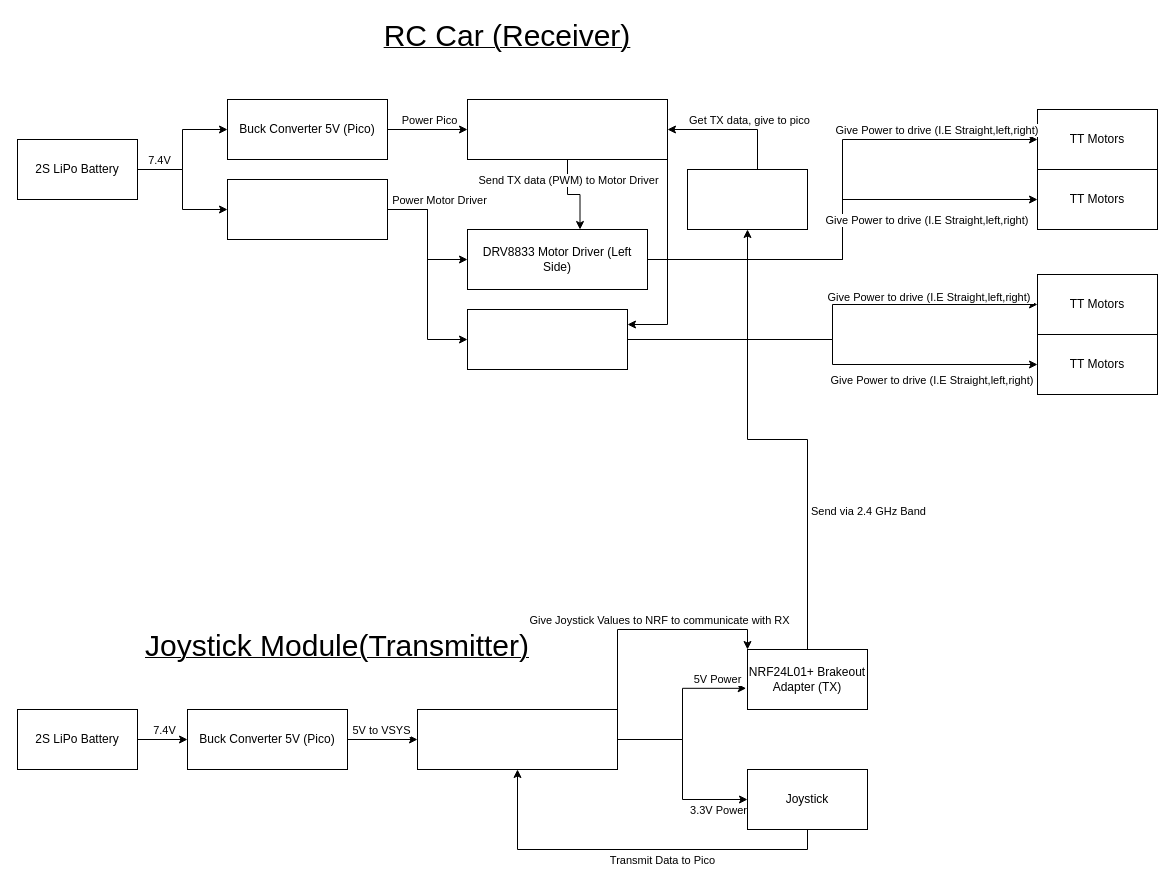
Image size: 1175x883. Some labels were removed from this diagram. The shapes that lost their labels are listed below. From the top down, each one's centre as x and y in pixels, then its label:
the point at 567,129: Raspberry Pi Pico (Transmitter)
the point at 307,209: Buck Converter 5V (Motors)
the point at 747,199: NRF24L01+ Brakeout Adapter (RX)
the point at 547,339: DRV8833 Motor Driver(Right Side)
the point at 517,739: Raspberry Pi Pico (Receiver)
